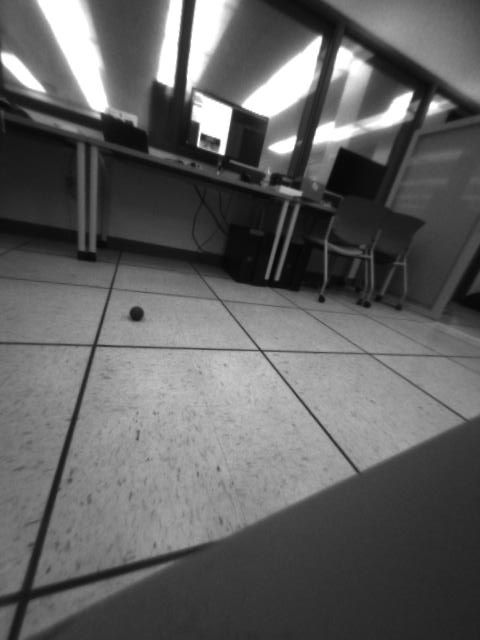dogtoy: (125, 298, 151, 324)
